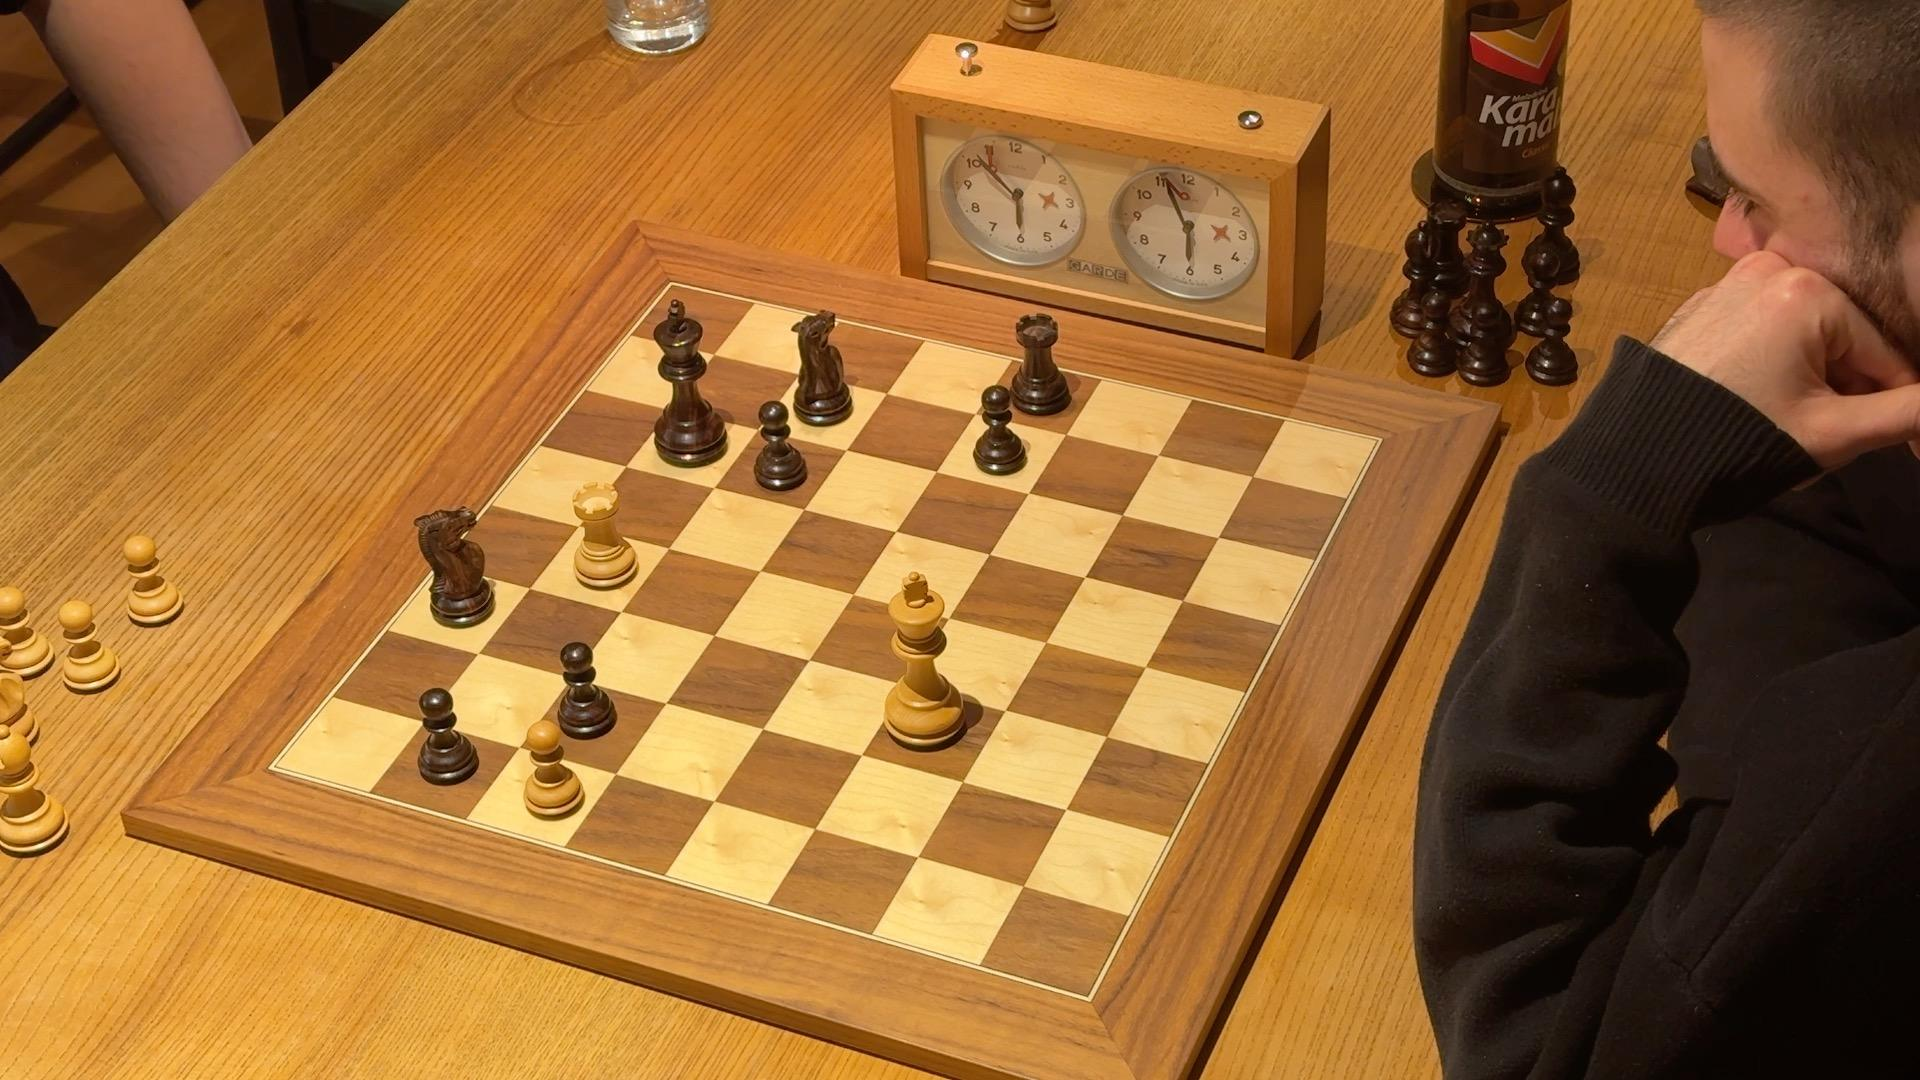Black King: (646, 291, 733, 472)
Black Knight: (409, 498, 502, 634), (786, 302, 858, 431)
Black Pawn: (553, 632, 622, 744), (413, 682, 481, 791), (968, 378, 1033, 480), (749, 397, 811, 495)
Black Rook: (1005, 306, 1076, 419)
White King: (880, 566, 969, 756)
White Pawn: (520, 715, 588, 824)
White Rook: (570, 477, 642, 595)
